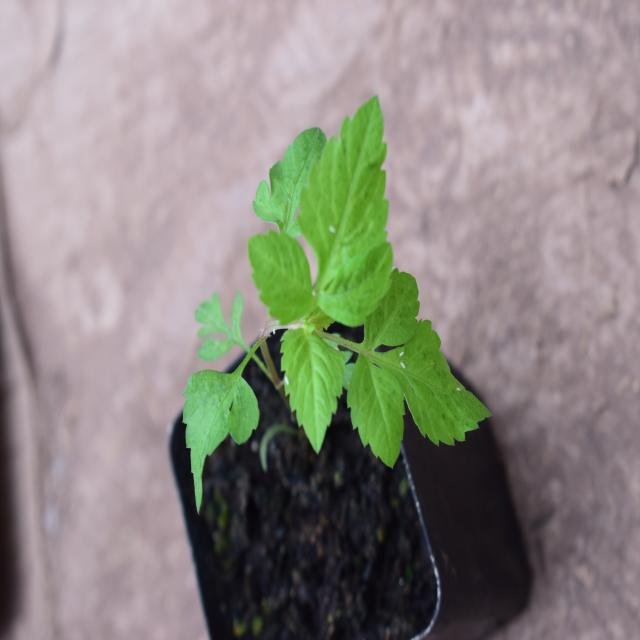Bidens pilosa: (160, 105, 476, 500)
